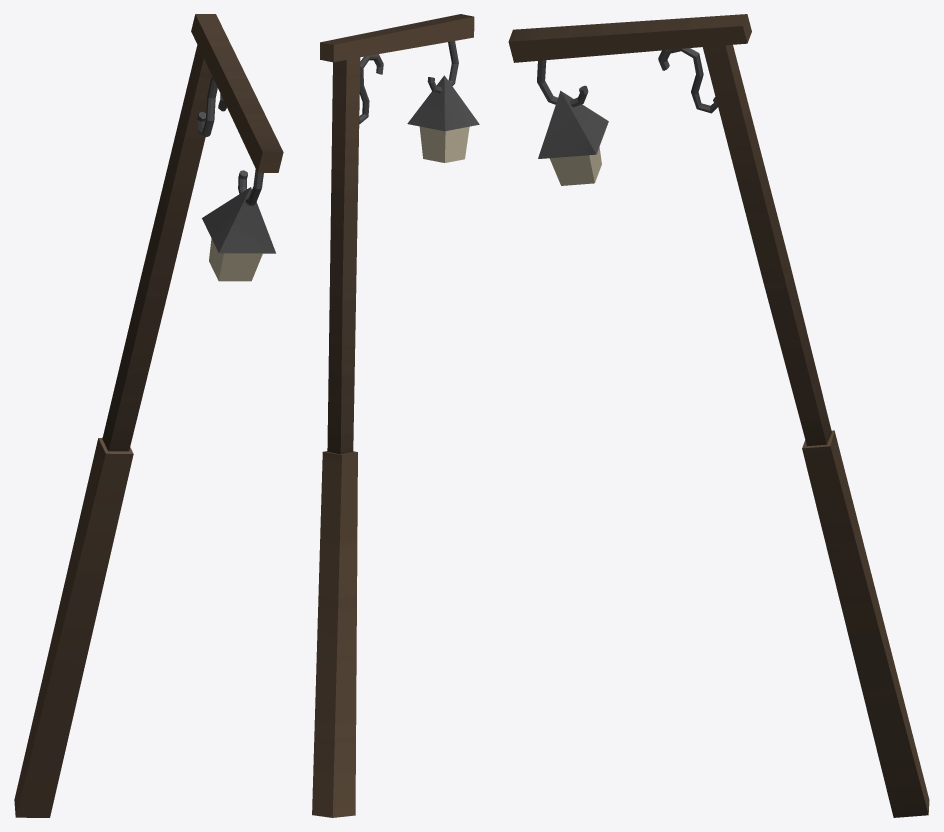
Rendered from ea_exterior_lamp_wooden_01a_pre__2__lev1.glb.
The picture shows the model from 3 angles, left to right: view 1: azimuth 30°, elevation 25°; view 2: azimuth 150°, elevation 25°; view 3: azimuth 270°, elevation 25°; orthographic projection. The views are drawn at different scales.
Visible parts, largest first — view 1: ea_exterior_lamp_wooden_01a_pre__2__lev1; view 2: ea_exterior_lamp_wooden_01a_pre__2__lev1; view 3: ea_exterior_lamp_wooden_01a_pre__2__lev1.
Part boxes in pixels (box(x1,y1,x2,y2)): ea_exterior_lamp_wooden_01a_pre__2__lev1: box(14, 14, 283, 817); ea_exterior_lamp_wooden_01a_pre__2__lev1: box(312, 14, 479, 817); ea_exterior_lamp_wooden_01a_pre__2__lev1: box(508, 14, 929, 817).
Bounding box in the file's own units: 0.6193 × 4.1 × 1.86.
Materials: 1 (1 with a texture image).
